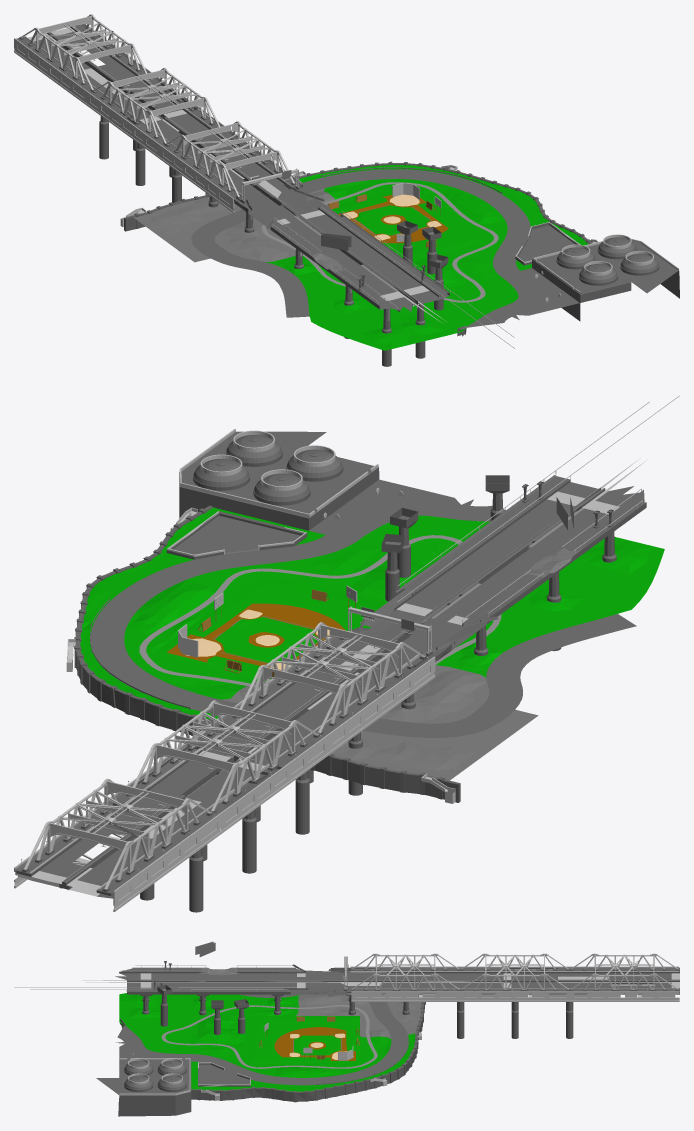
The model's file is bronx_w2_2.FBX.
3 renders of one model, top to bottom at view 1: azimuth 30°, elevation 25°; view 2: azimuth 150°, elevation 25°; view 3: azimuth 270°, elevation 25°, orthographic. The views are drawn at different scales.
Parts seen in each view (by area): view 1: unnamed, null; view 2: unnamed, null; view 3: unnamed, null.
Part boxes in pixels (x1,y1,x2,y2): unnamed: [87, 72, 679, 366]; null: [14, 14, 175, 159]; unnamed: [66, 395, 679, 873]; null: [14, 743, 257, 912]; unnamed: [14, 941, 570, 1116]; null: [514, 953, 679, 1038].
Size of the model in its own units: 191 by 52.64 by 416.
